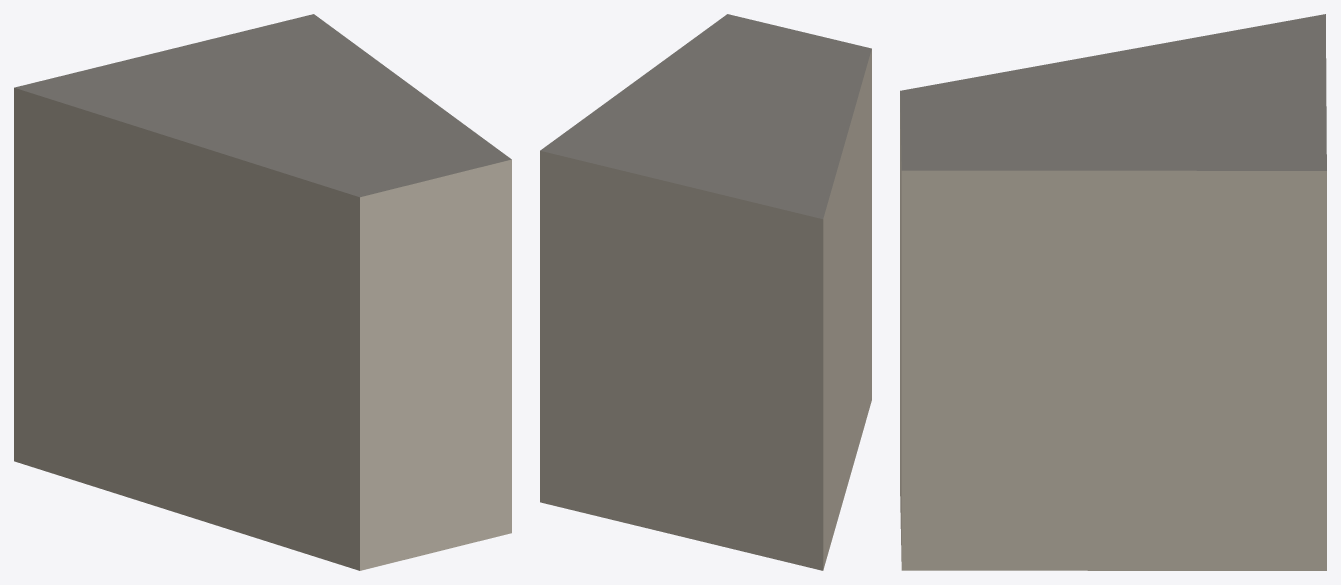
3 renders of one model, left to right at view 1: azimuth 30°, elevation 25°; view 2: azimuth 150°, elevation 25°; view 3: azimuth 270°, elevation 25°, orthographic. The views are drawn at different scales.
Parts seen in each view (by area): view 1: HP-w446934738; view 2: HP-w446934738; view 3: HP-w446934738.
Boxes of the visible parts, x1=… form: HP-w446934738: x1=14, y1=14, x2=511, y2=570; HP-w446934738: x1=540, y1=14, x2=871, y2=570; HP-w446934738: x1=900, y1=14, x2=1326, y2=570.
Size of the model in its own units: 15.14 by 18 by 17.41.
